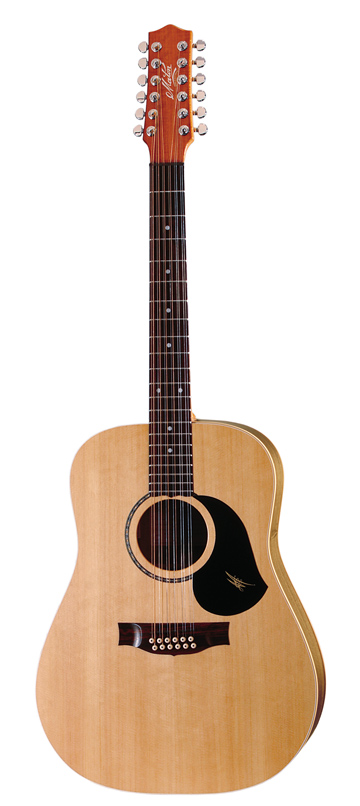guitar: (33, 21, 329, 794)
